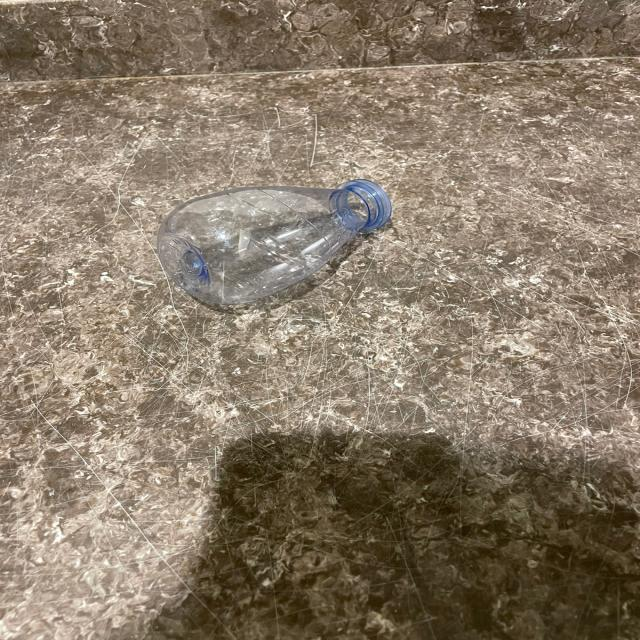chai: (159, 179, 391, 306)
